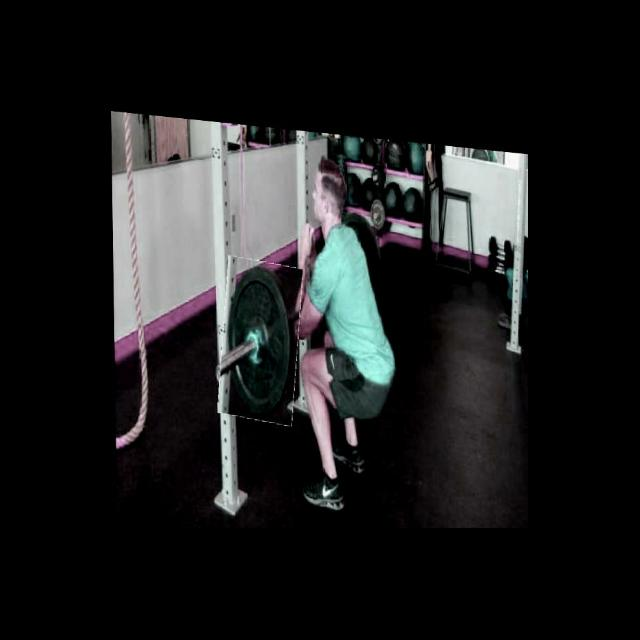barbell: (219, 254, 301, 423)
